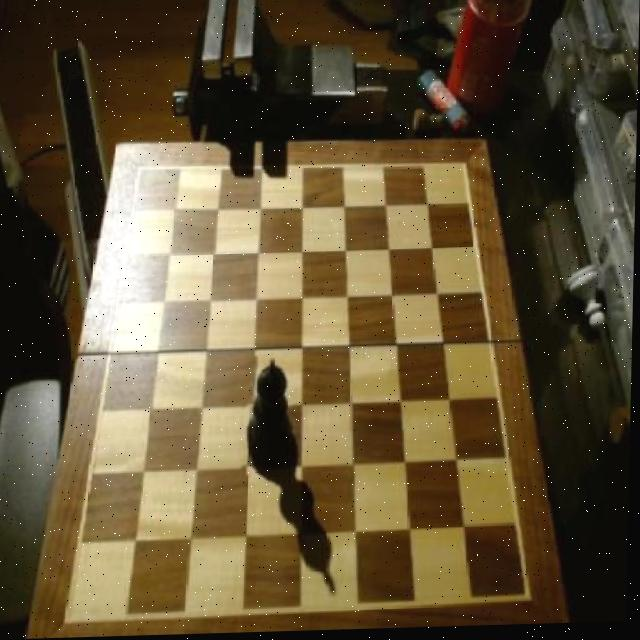black-bishop: (244, 359, 295, 480)
